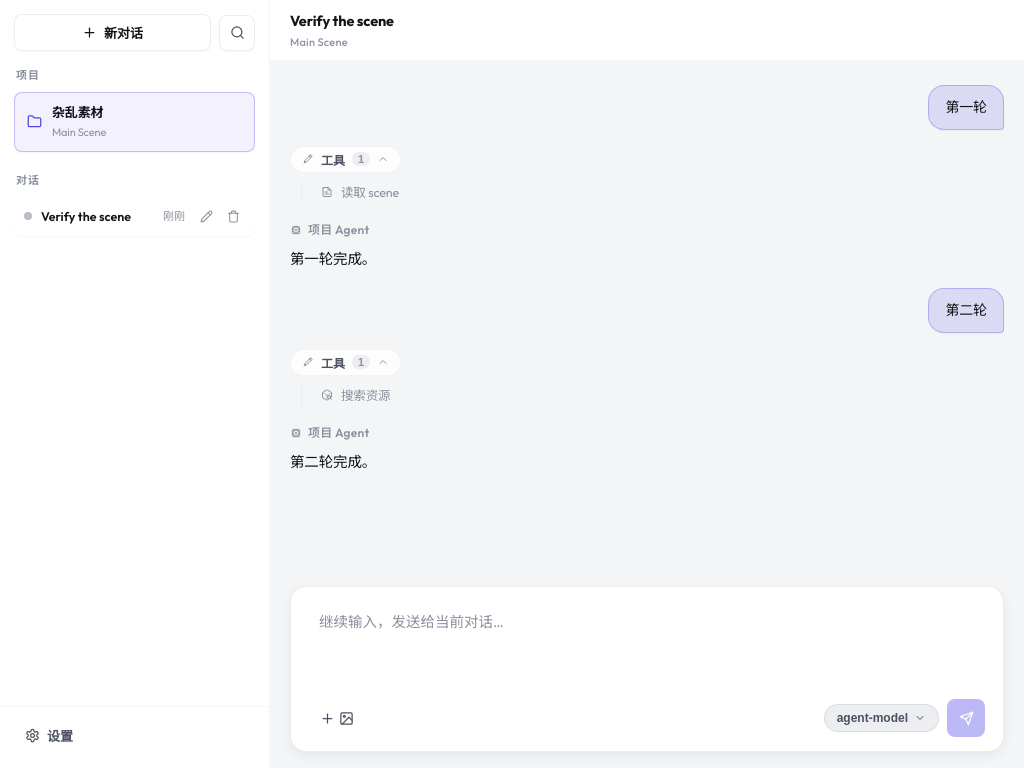
Test: AgentWindow conversation thread › collapses only the clicked tool group and leaves other groups expanded
Expected: the text "读取 scene" is shown, x1=341 y1=183 x2=399 y2=201
Expected: the text "搜索资源" is shown, x1=341 y1=386 x2=390 y2=404
Click the 1st button "工具 1". click: coordinates (346, 159)
box: x1=290 y1=146 x2=401 y2=173
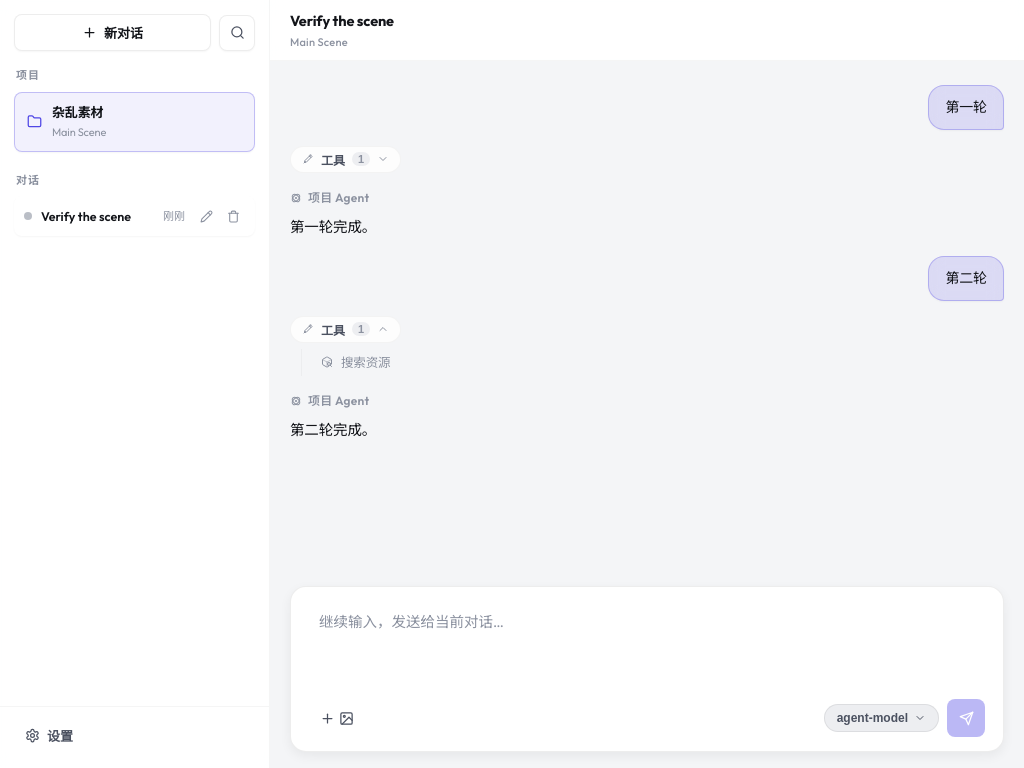
Expected: the text "搜索资源" is shown, x1=341 y1=353 x2=390 y2=372
Now the text "读取 scene" is gone
Click the 1st button "工具 1". click: coordinates (346, 159)
box: x1=290 y1=146 x2=401 y2=173
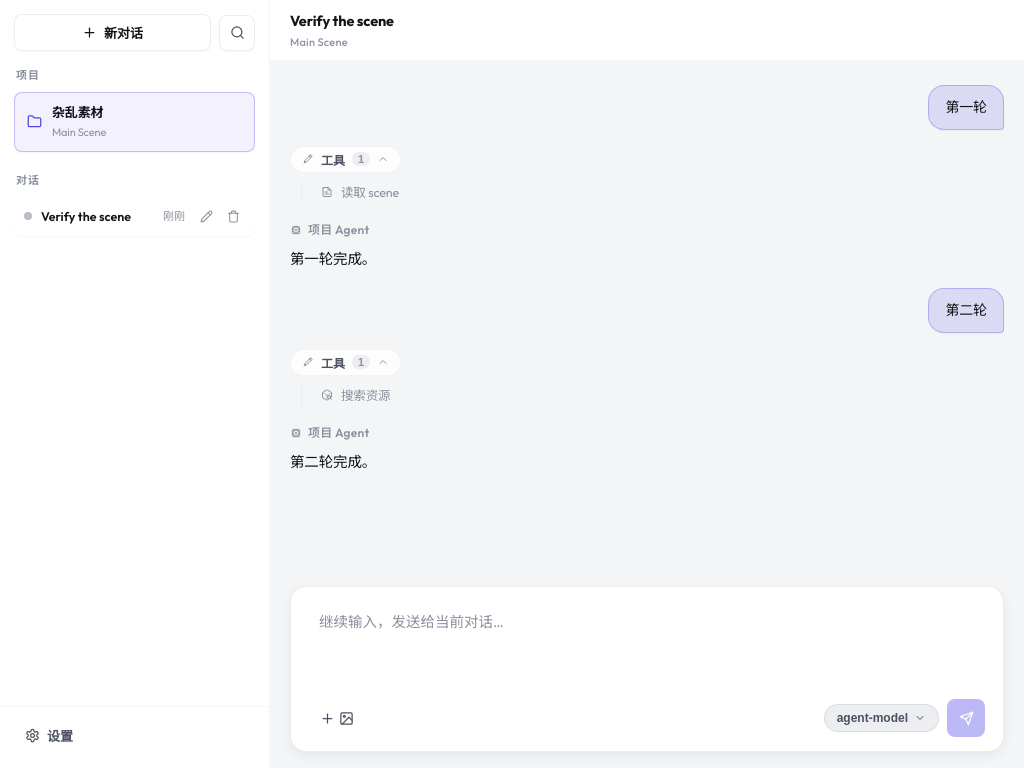
Expected: the text "搜索资源" is shown, x1=341 y1=386 x2=390 y2=404
Now the text "读取 scene" is shown, box x1=341 y1=183 x2=399 y2=201
